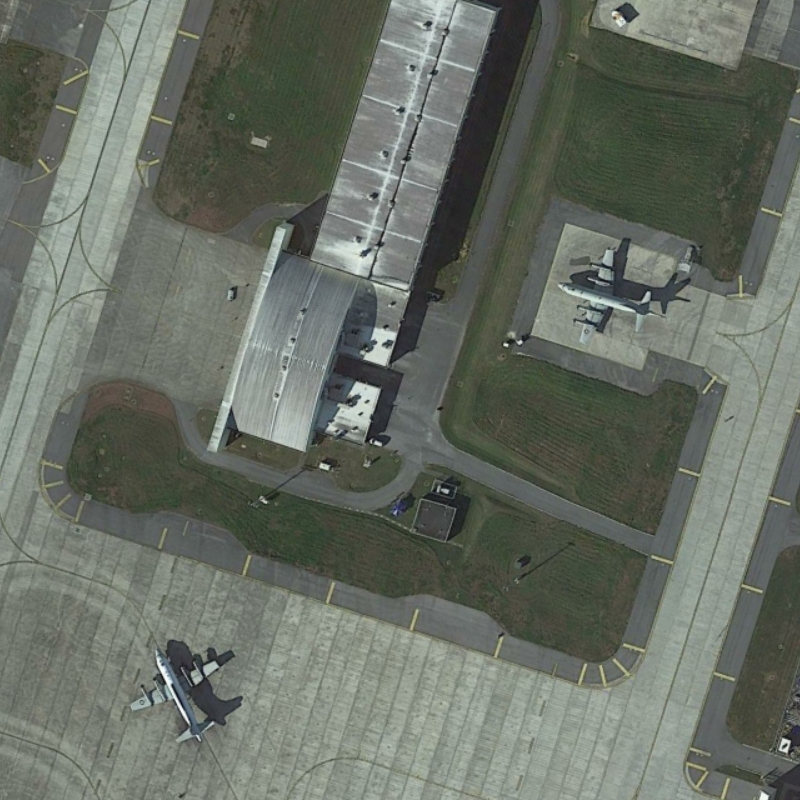A9: (553, 243, 669, 346), (127, 644, 222, 748)
